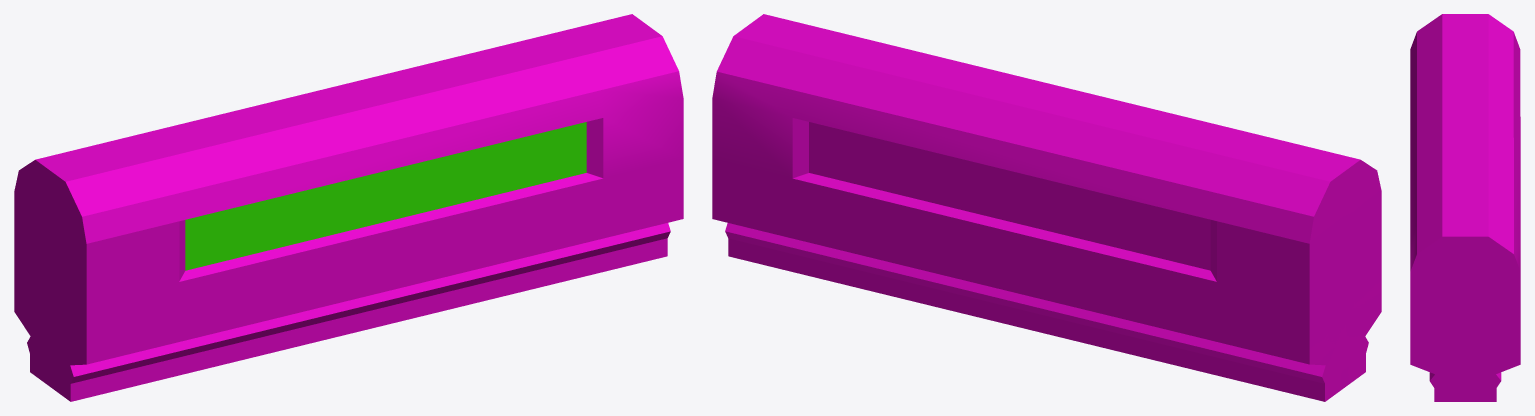
The model's file is Asset_trainCarriage.fbx.
3 renders of one model, left to right at view 1: azimuth 30°, elevation 25°; view 2: azimuth 150°, elevation 25°; view 3: azimuth 270°, elevation 25°, orthographic. The views are drawn at different scales.
Visible parts, largest first — view 1: pCube476; view 2: pCube476; view 3: pCube476.
Part boxes in pixels (box(x1,y1,x2,y2)): pCube476: box(14, 14, 683, 401); pCube476: box(712, 14, 1381, 401); pCube476: box(1410, 14, 1520, 401).
Bounding box in the file's own units: 34.51 × 11.95 × 7.24.
